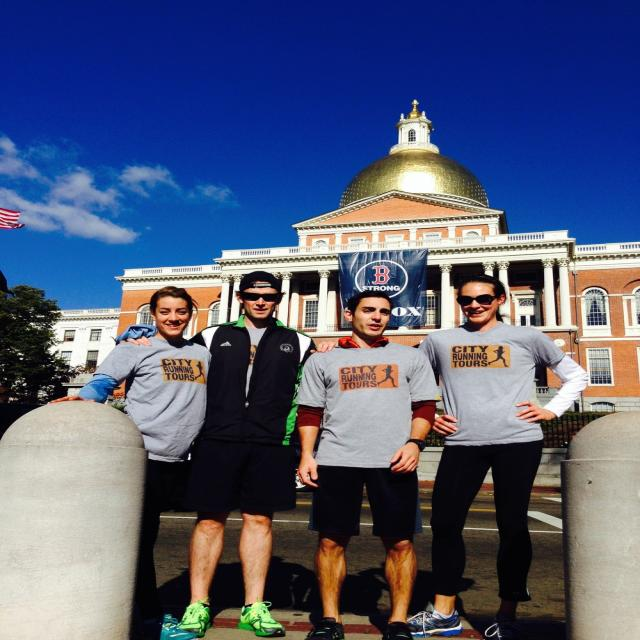body: (110, 269, 343, 639), (394, 272, 595, 640), (46, 285, 213, 628), (290, 286, 448, 640)
